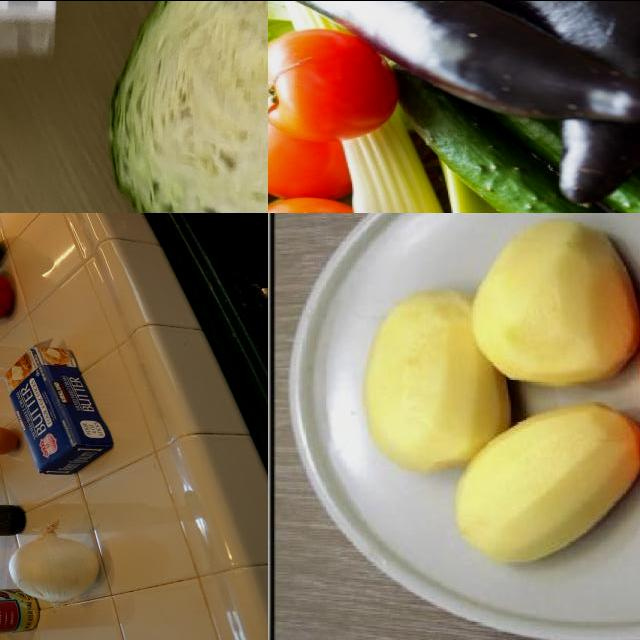bell_pepper: (1, 268, 21, 320)
cabbage: (106, 1, 269, 213)
egg: (1, 426, 21, 456)
onion: (12, 522, 105, 605)
potato: (452, 400, 640, 564), (364, 290, 520, 478), (471, 219, 639, 385)
